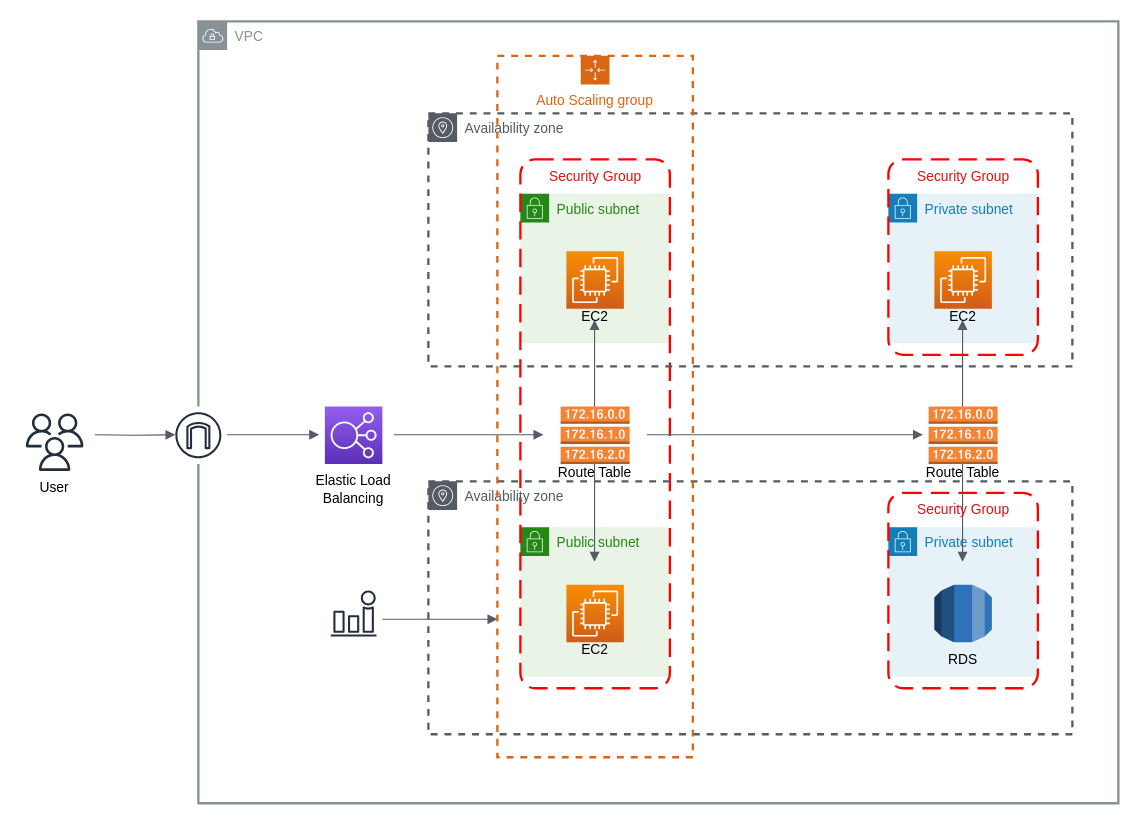
Image size: 1139x823. Some labels were removed from this diagram. The centre of each missing label's shape, as x and y in pixels:
"Alarm" goes at [353,613].
"Internet gateway" goes at [197,434].
